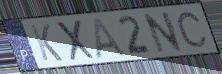2: (119, 14, 153, 57)
A: (91, 17, 130, 60)
C: (175, 10, 209, 49)
K: (28, 23, 65, 63)
N: (141, 10, 185, 55)
X: (54, 19, 98, 63)
